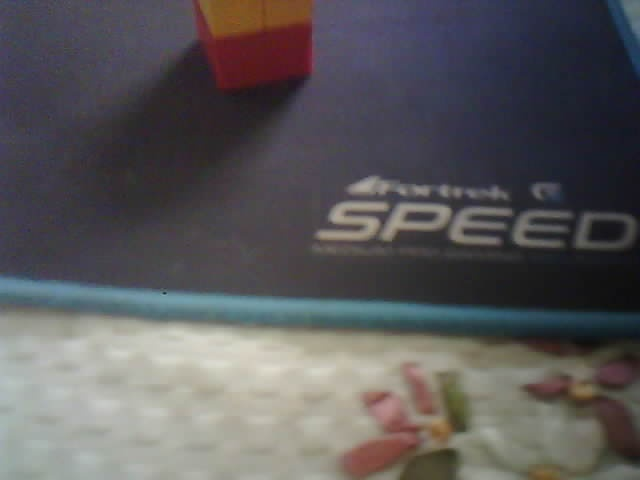lego: (193, 1, 314, 93)
